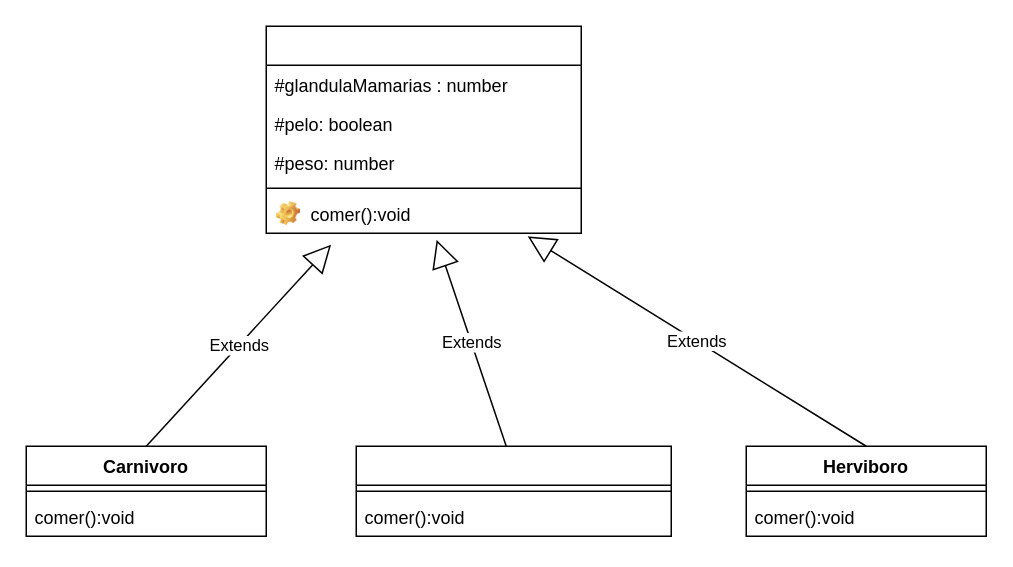
This 1013x567 diagram has some shape labels left out. The box of each missing label's shape, as (x1, y1, x2, y2) in pixels:
Mamifero: (265, 25, 581, 233)
Omnivoro: (355, 445, 671, 536)
